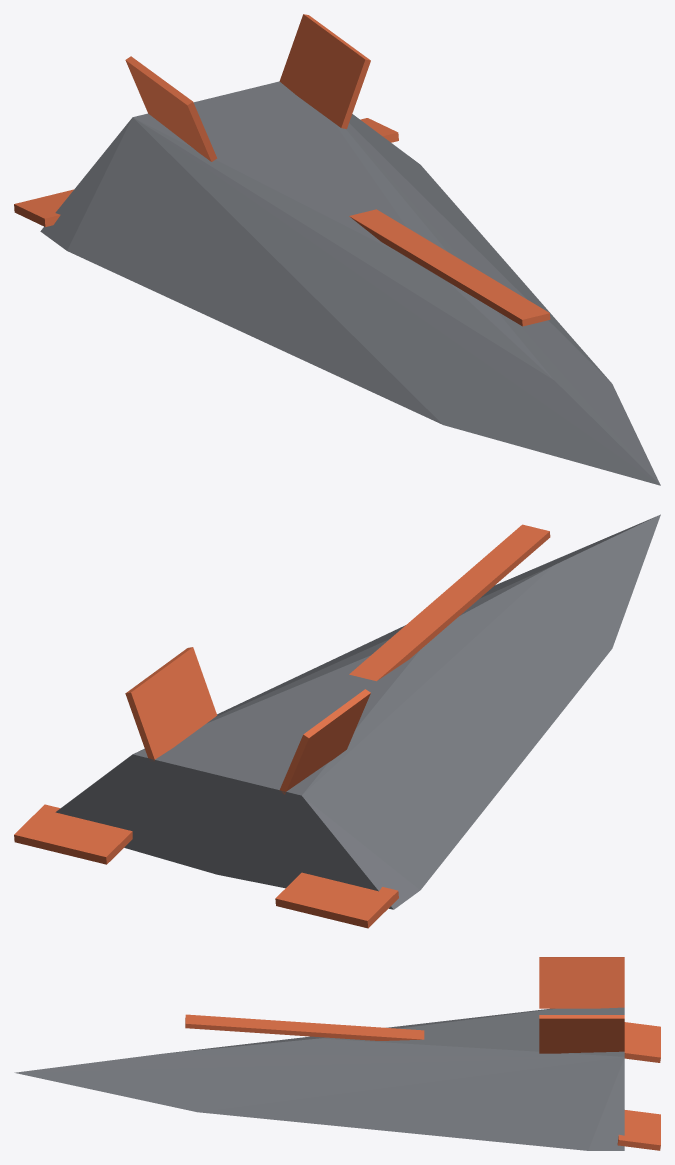
The model's file is Threat_Hypersonic_01.fbx.
The picture shows the model from 3 angles, top to bottom: view 1: azimuth 30°, elevation 25°; view 2: azimuth 150°, elevation 25°; view 3: azimuth 270°, elevation 25°; orthographic projection. The views are drawn at different scales.
Visible parts, largest first — view 1: Threat_Hypersonic_01_Trim, Threat_Hypersonic_01_Threat; view 2: Threat_Hypersonic_01_Trim, Threat_Hypersonic_01_Threat; view 3: Threat_Hypersonic_01_Trim, Threat_Hypersonic_01_Threat.
Boxes of the visible parts, <box> form: Threat_Hypersonic_01_Trim: <box>40,81,660,485</box>; Threat_Hypersonic_01_Threat: <box>14,14,550,326</box>; Threat_Hypersonic_01_Trim: <box>55,514,660,909</box>; Threat_Hypersonic_01_Threat: <box>14,524,550,928</box>; Threat_Hypersonic_01_Trim: <box>14,1007,624,1150</box>; Threat_Hypersonic_01_Threat: <box>185,957,660,1150</box>.
Size of the model in its own units: 2.3 by 1 by 5.3.
